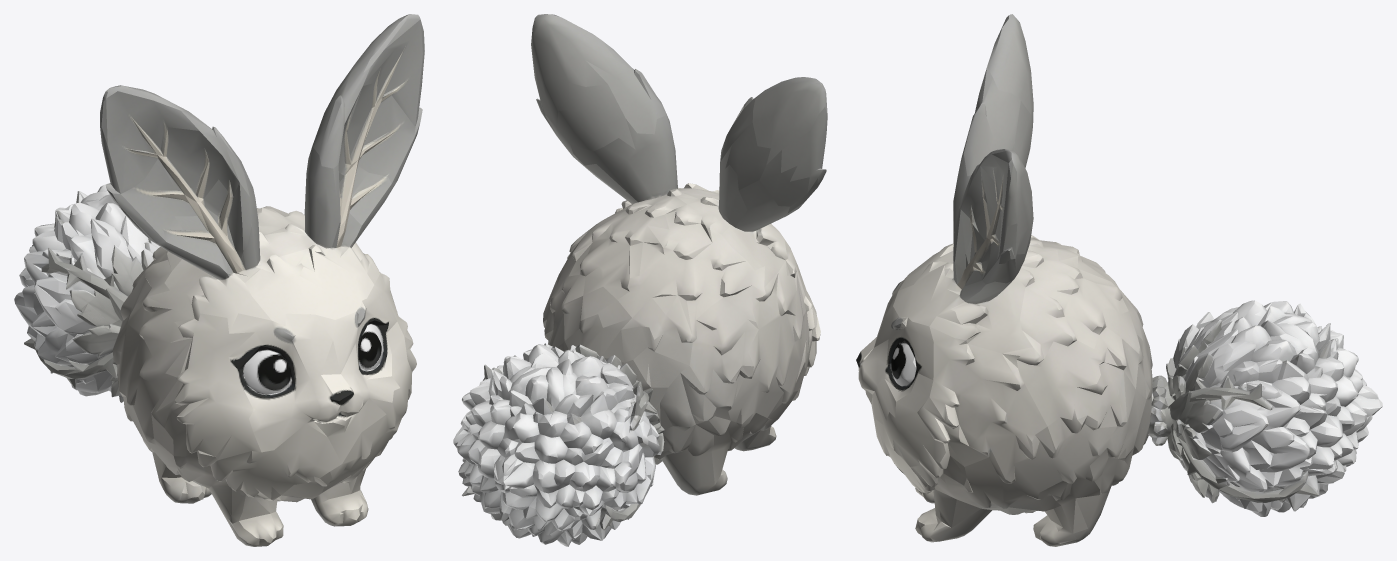
The picture shows the model from 3 angles, left to right: view 1: azimuth 30°, elevation 25°; view 2: azimuth 150°, elevation 25°; view 3: azimuth 270°, elevation 25°; orthographic projection. The views are drawn at different scales.
Bounding box in the file's own units: 1.29 × 1.72 × 1.9.
1 material, 1 textured.
